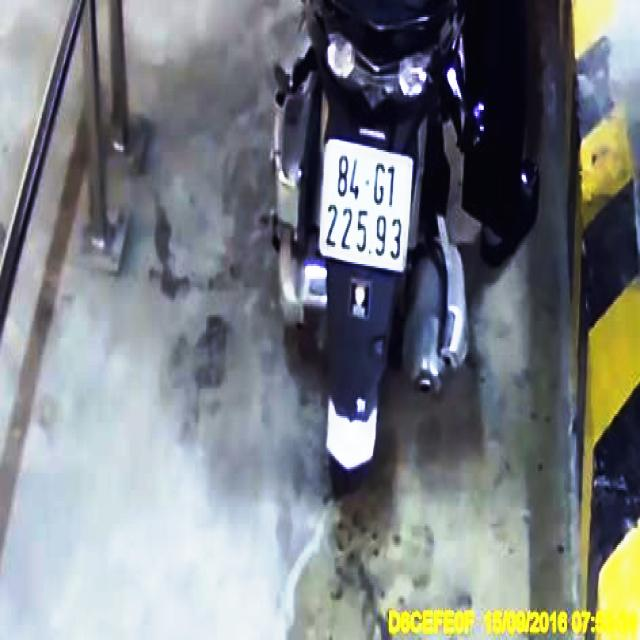license_plate: (318, 139, 415, 275)
